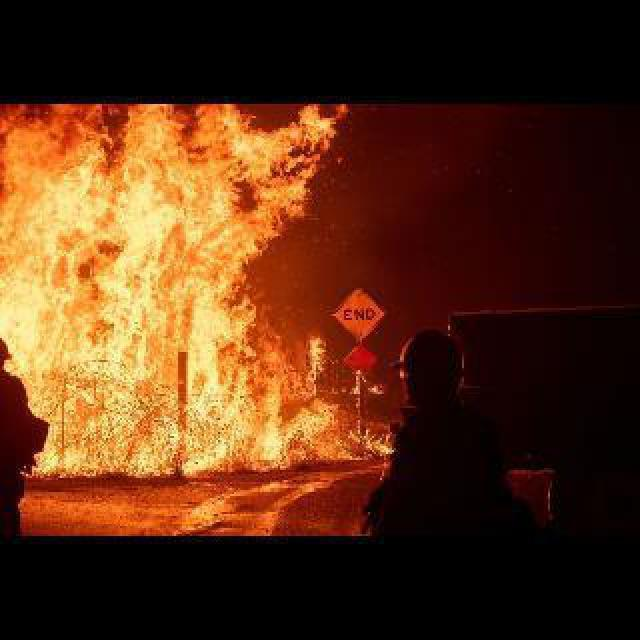Fire: (0, 98, 346, 468)
